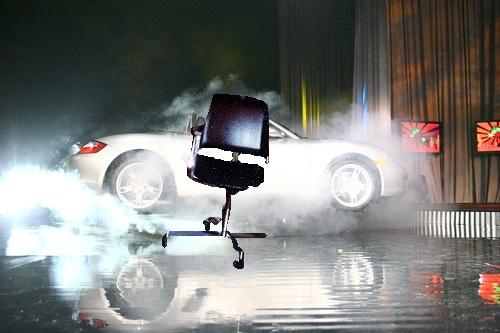tampered: (163, 94, 269, 269)
